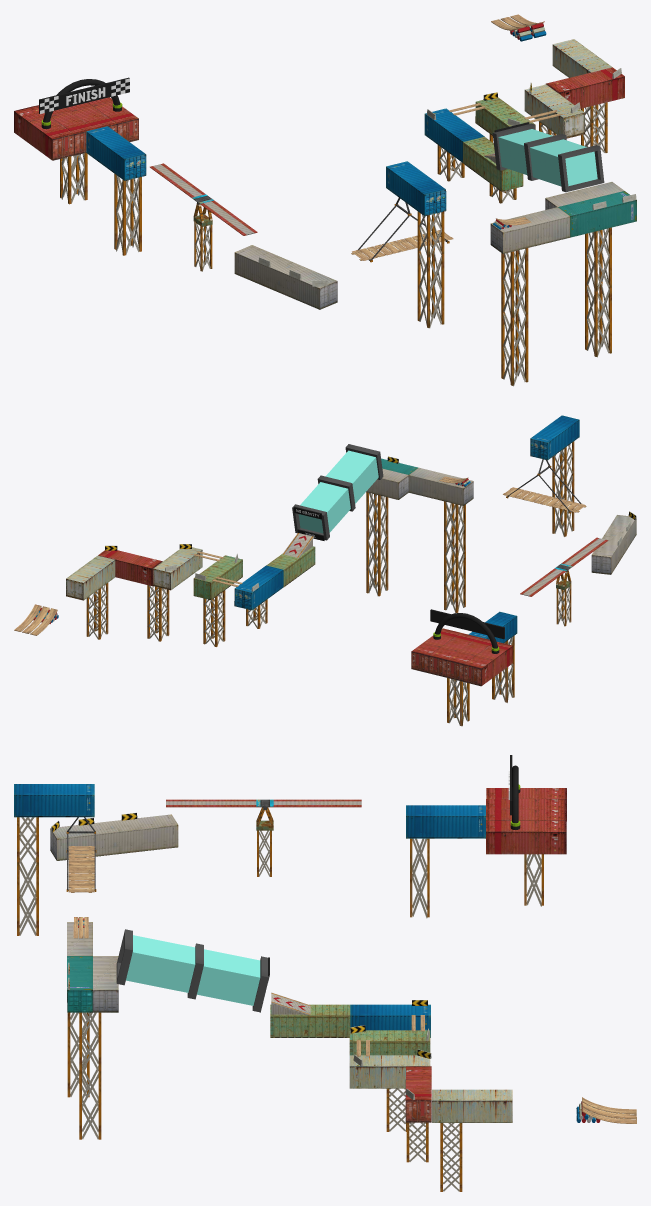
Rendered from 2_Parkour.fbx.
The picture shows the model from 3 angles, top to bottom: view 1: azimuth 30°, elevation 25°; view 2: azimuth 150°, elevation 25°; view 3: azimuth 270°, elevation 25°; orthographic projection. The views are drawn at different scales.
Visible parts, largest first — view 1: NoGravityZone, stcontainerwhitetwo__2_, stcontainerwhitetwo__1_, stcontainergreen, stcontainerblue__6_, stcontainerblue__4_, stcontainerred__8_, stcontainerred__4_, stcontainerwhite__2_, finishObject, orangescaffold__33_, stcontainergreentwo__2_ (+22 smaller); view 2: NoGravityZone, stcontainerwhitetwo__1_, stcontainerwhitetwo__2_, stcontainerwhite__1_, stcontainerblue__6_, stcontainerblue__1_, stcontainerred__8_, stcontainerwhite__2_, stcontainergreentwo__1_, finishObject, stcontainerred__4_, orangescaffold__16_ (+23 smaller); view 3: NoGravityZone, stcontainerwhitetwo__2_, stcontainerwhite__1_, stcontainerblue__6_, stcontainerblue__4_, stcontainerred__11_, stcontainergreentwo__2_, stcontainerwhite__2_, stcontainerblue__1_, stcontainergreentwo__1_, JointPlatform, stcontainerred__4_ (+18 smaller).
Boxes of the visible parts, x1,y1,x2,y2 form: NoGravityZone: [498, 129, 597, 186]; stcontainerwhitetwo__2_: [234, 245, 337, 309]; stcontainerwhitetwo__1_: [490, 207, 569, 253]; stcontainergreen: [558, 191, 636, 237]; stcontainerblue__6_: [386, 161, 446, 216]; stcontainerblue__4_: [86, 126, 146, 180]; stcontainerred__8_: [14, 106, 74, 160]; stcontainerred__4_: [546, 67, 624, 108]; stcontainerwhite__2_: [524, 84, 584, 138]; finishObject: [39, 77, 129, 129]; orangescaffold__33_: [114, 173, 141, 255]; stcontainergreentwo__2_: [463, 137, 523, 191]; NoGravityZone: [298, 450, 378, 533]; stcontainerwhitetwo__1_: [408, 467, 473, 505]; stcontainerwhitetwo__2_: [591, 515, 636, 574]; stcontainerwhite__1_: [66, 555, 115, 600]; stcontainerblue__6_: [530, 415, 579, 460]; stcontainerblue__1_: [234, 565, 283, 610]; stcontainerred__8_: [463, 642, 512, 686]; stcontainerwhite__2_: [153, 547, 202, 590]; stcontainergreentwo__1_: [193, 555, 242, 599]; finishObject: [430, 609, 504, 653]; stcontainerred__4_: [98, 550, 162, 586]; orangescaffold__16_: [444, 550, 465, 613]; NoGravityZone: [126, 935, 260, 1005]; stcontainerwhitetwo__2_: [50, 814, 178, 860]; stcontainerwhite__1_: [432, 1089, 512, 1122]; stcontainerblue__6_: [14, 784, 94, 817]; stcontainerblue__4_: [406, 805, 485, 838]; stcontainerred__11_: [486, 821, 566, 854]; stcontainergreentwo__2_: [270, 1004, 350, 1037]; stcontainerwhite__2_: [349, 1055, 430, 1088]; stcontainerblue__1_: [350, 1004, 430, 1037]; stcontainergreentwo__1_: [349, 1030, 430, 1055]; JointPlatform: [166, 799, 361, 807]; stcontainerred__4_: [405, 1066, 431, 1122].
Size of the model in its own units: 13407 by 5677 by 12859.
